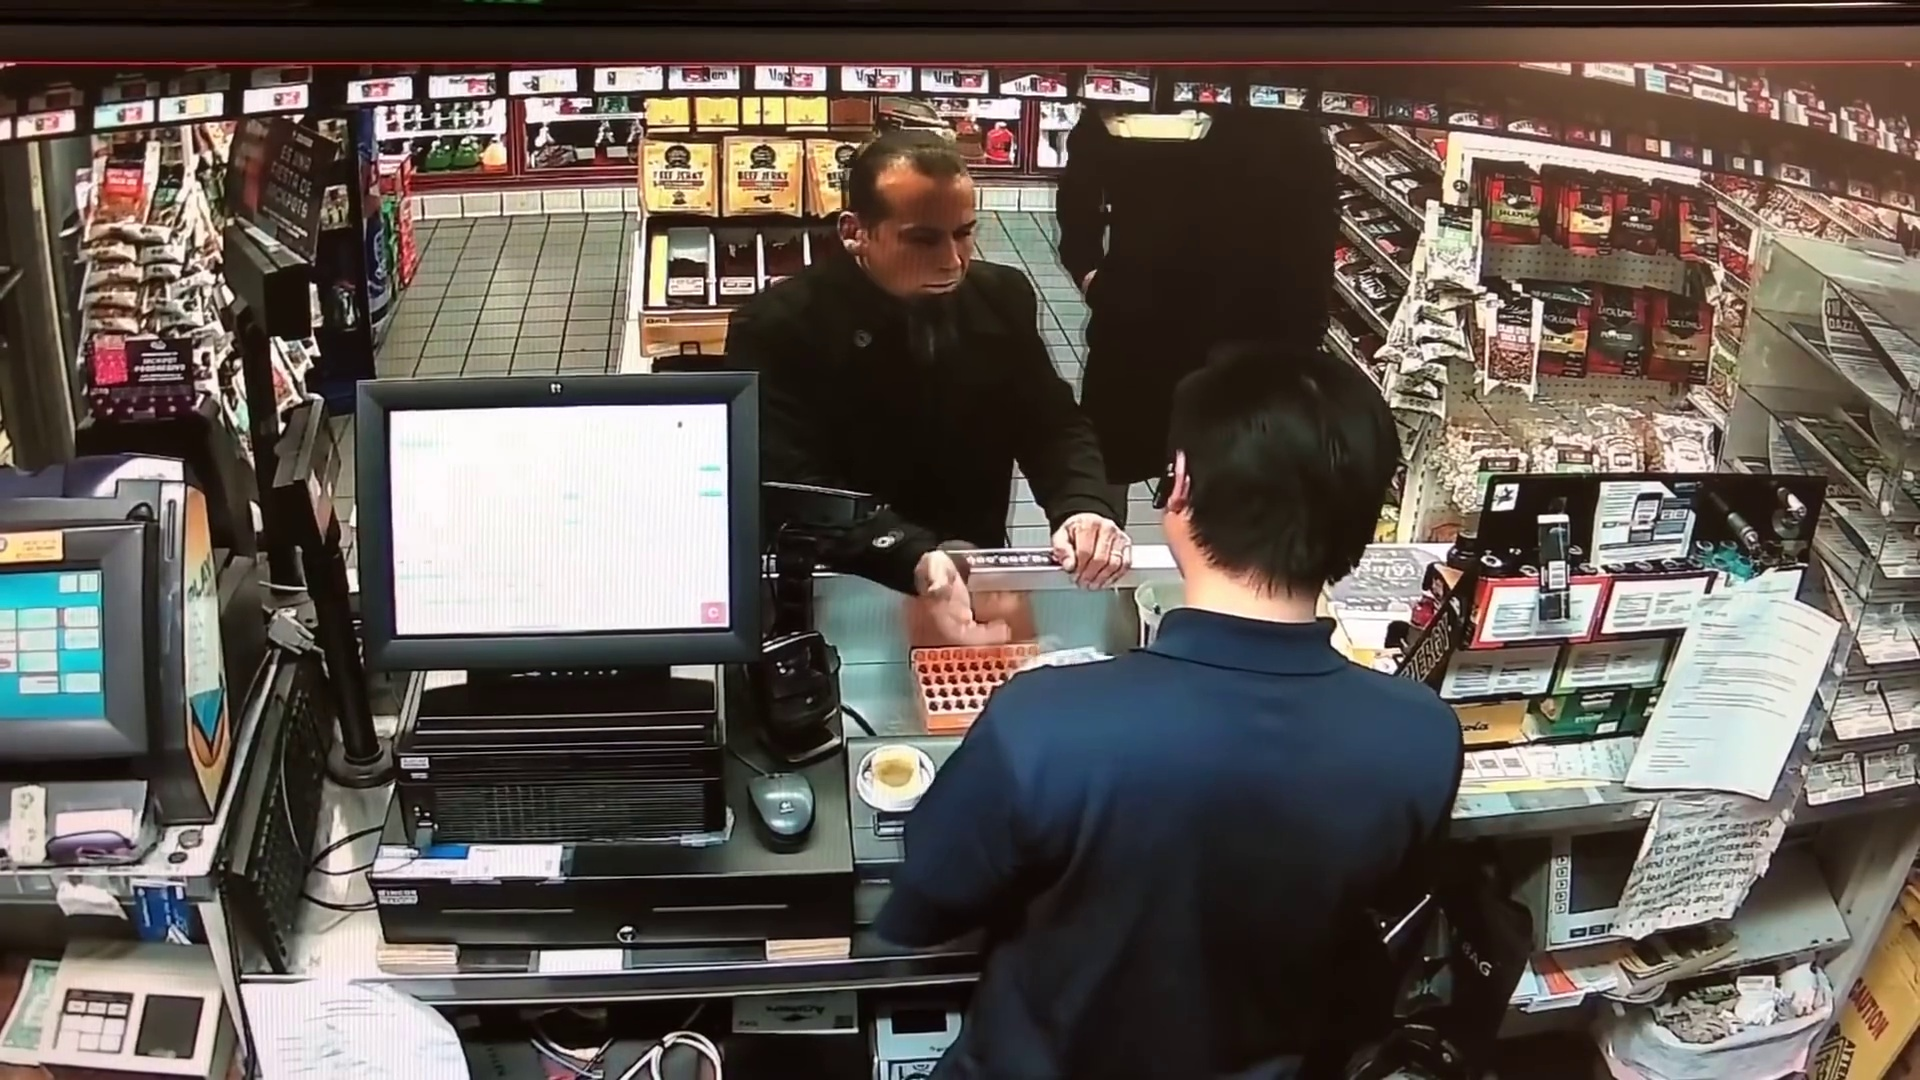face: (870, 179, 984, 314)
